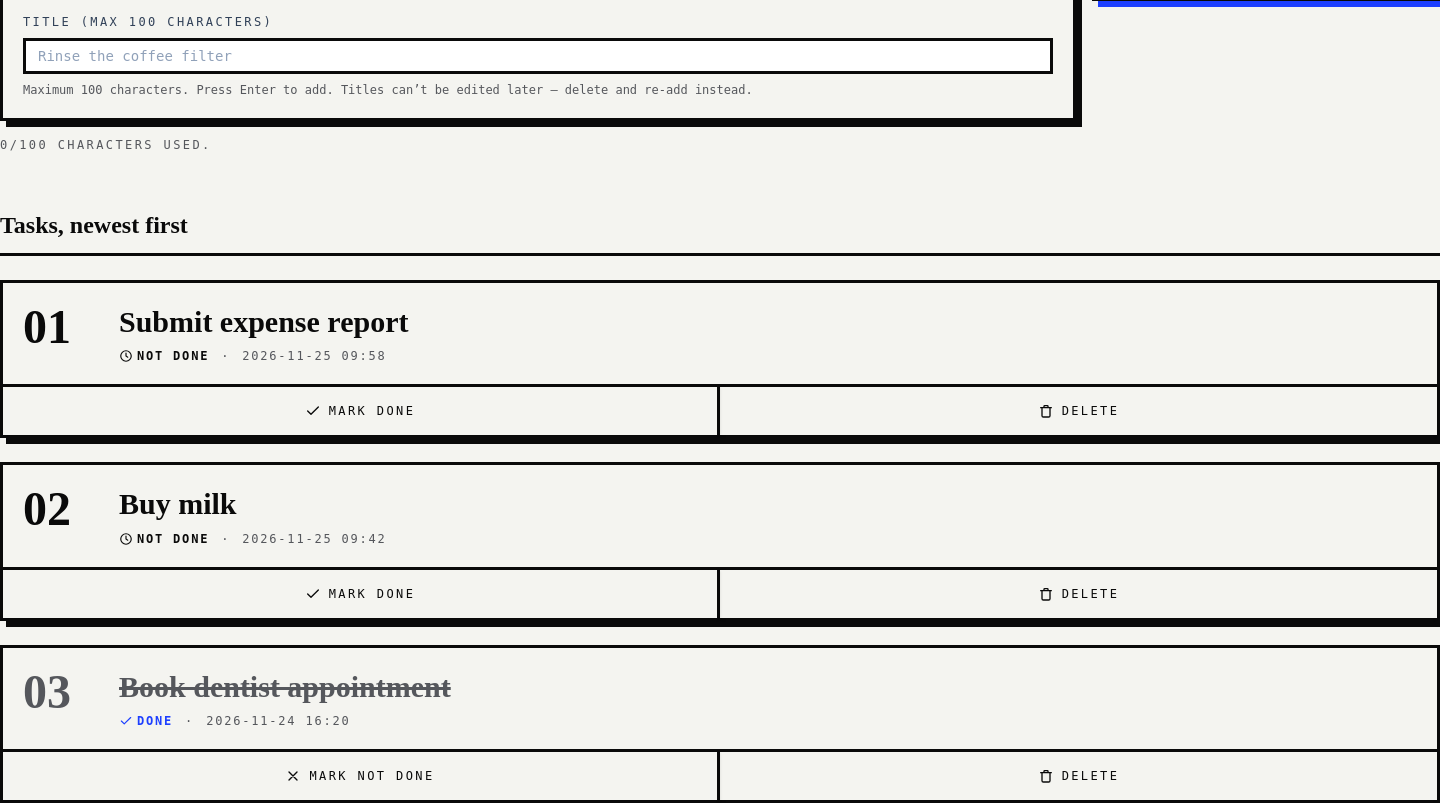
Scenario: Tasks — delete a task after confirming › [AC-016] asks to confirm and deletes nothing yet when delete is chosen
(page scrolled)
Click the button with test id "delete-btn": (1078, 594) [720,570,1437,618]
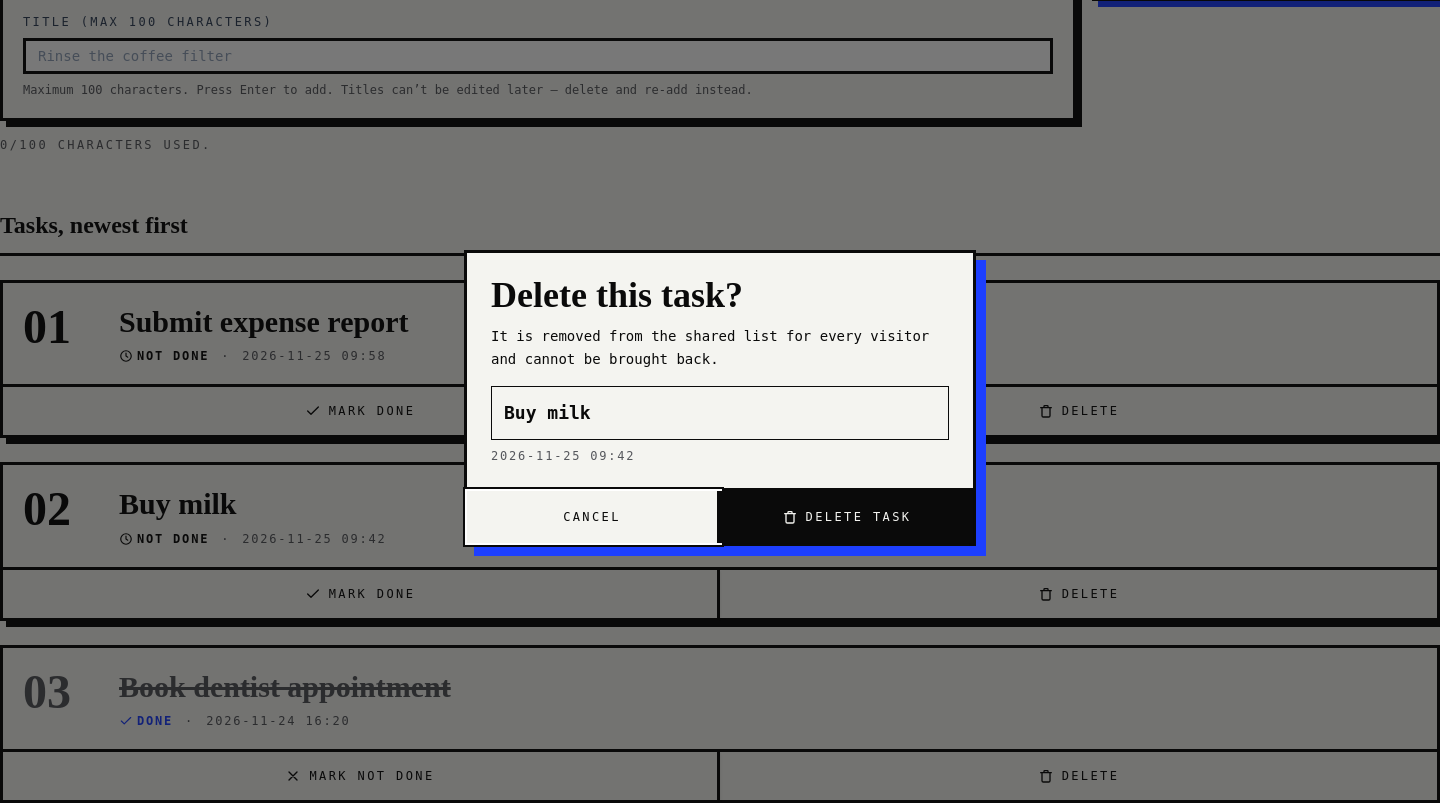
Now the heading "Delete this task?" is shown, box [491,275,743,315]
Now the button with test id "cancel-btn" is enabled, box [467,491,720,543]
Now the button with test id "delete-task-btn" is enabled, box [720,491,973,543]
